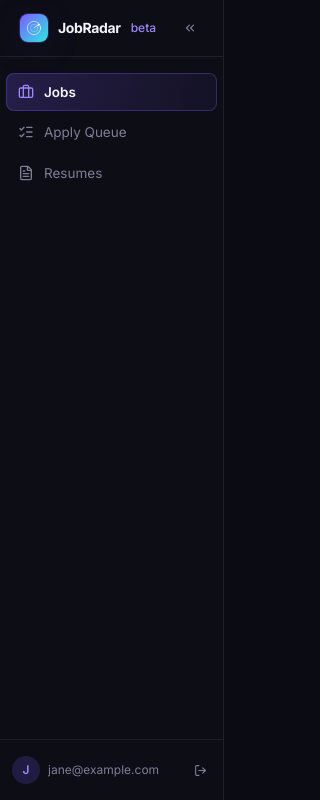
Test case: Sidebar › collapses and expands via the toggle button
Expected: the text "jane@example.com" is shown, [48, 762, 159, 778]
Click the button named "Collapse sidebar": (190, 28) [177, 15, 203, 41]
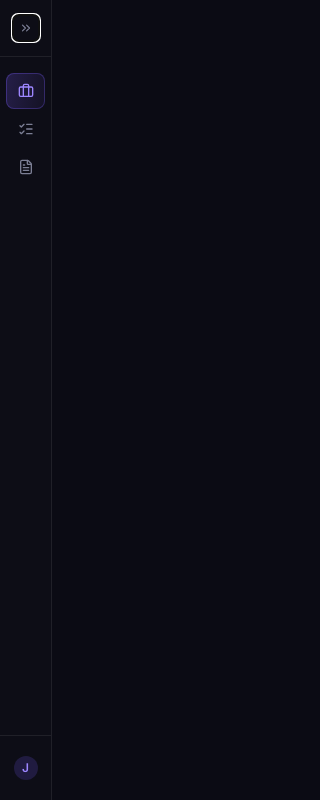
Result: the link "jane@example.com" is gone
Toggle is now the expand control
Click the button named "Expand sidebar": (26, 28) [12, 15, 38, 41]
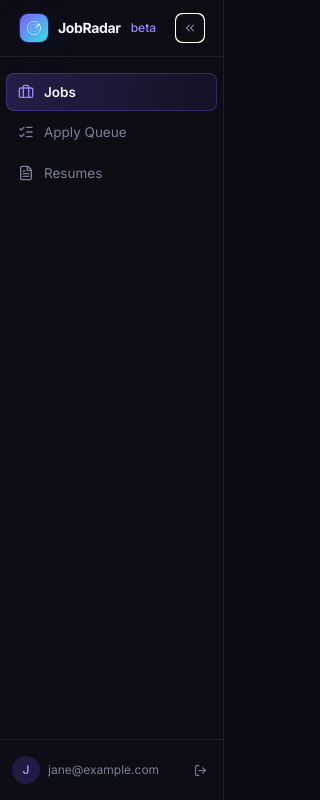
Result: the text "jane@example.com" is shown at [48, 762, 159, 778]
